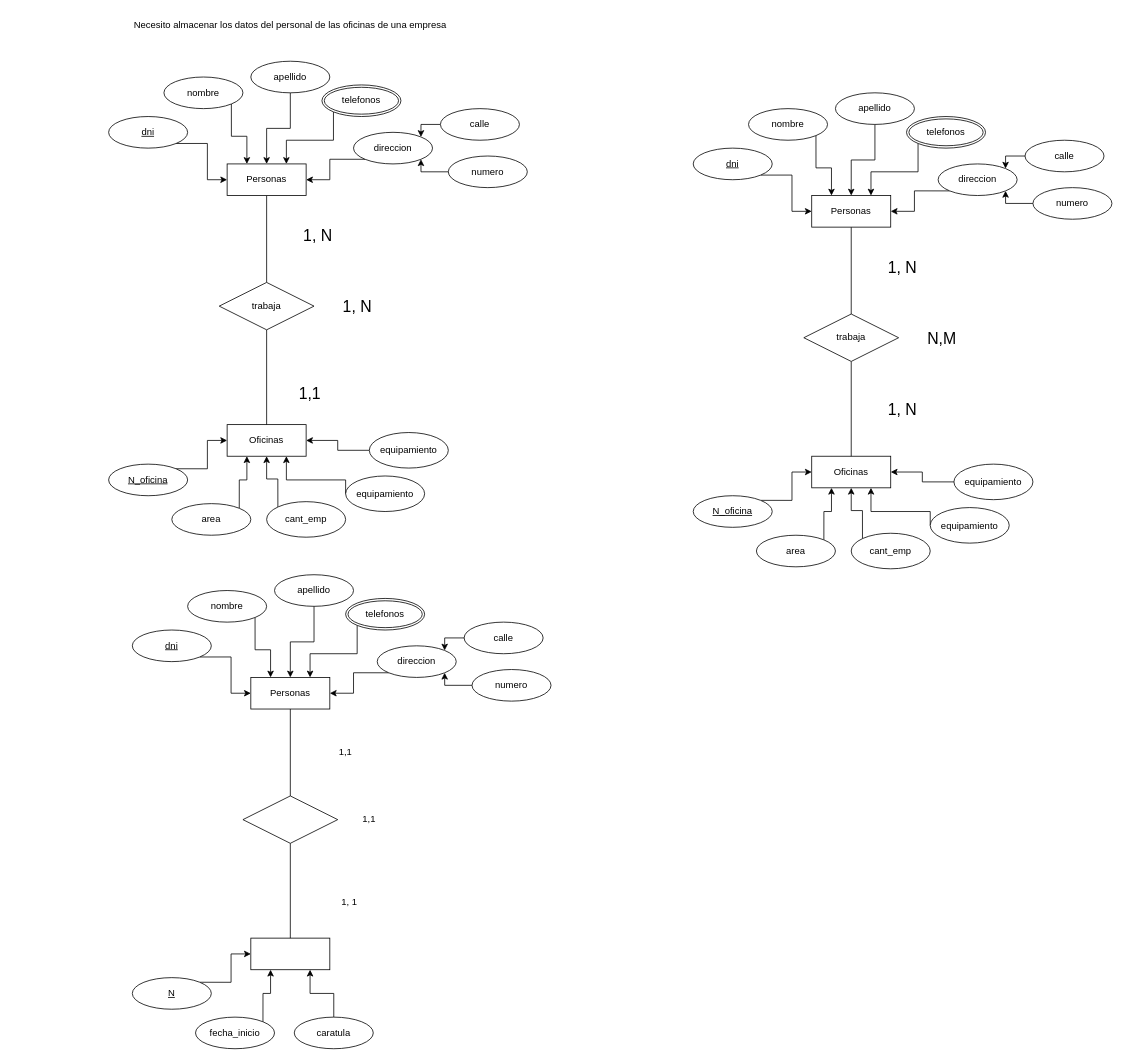
The diagram is 1126 pixels wide and 1063 high, and some of its shapes have lost their labels. Each missing label, with the box of its shape:
Expediente: (250, 937, 330, 970)
tienen: (242, 795, 338, 843)
